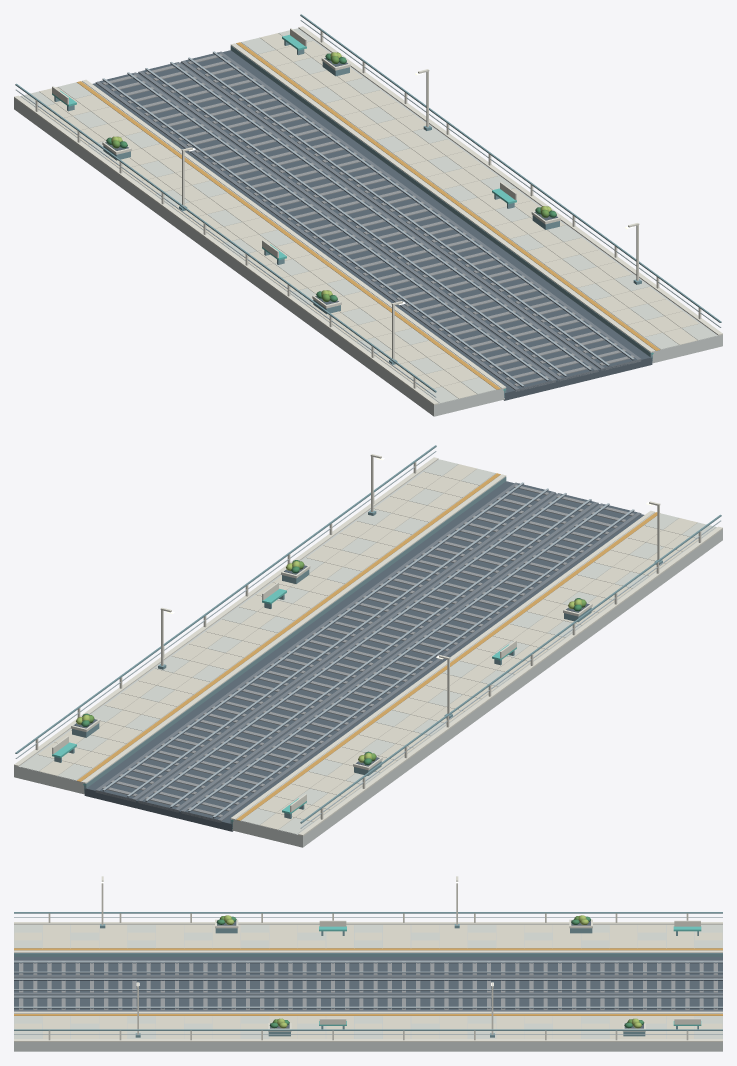
The model's file is track.glb.
3 renders of one model, top to bottom at view 1: azimuth 30°, elevation 25°; view 2: azimuth 150°, elevation 25°; view 3: azimuth 270°, elevation 25°, orthographic. The views are drawn at different scales.
Visible parts, largest first — view 1: track_Bed, track_TileA, track_Sleeper, track_White, track_TileB, track_Ballast, track_Concrete, track_RailFace, track_BlueStone, track_Tactile, track_RailWeb; view 2: track_Bed, track_TileA, track_Sleeper, track_White, track_TileB, track_Ballast, track_Concrete, track_RailFace, track_BlueStone, track_Tactile, track_RailWeb; view 3: track_TileA, track_Bed, track_White, track_RailFace, track_TileB, track_Sleeper, track_Ballast, track_Concrete, track_BlueStone, track_RailWeb, track_Tactile, track_Aqua (+1 smaller).
Part boxes in pixels (x1,y1,x2,y2): track_Bed: (92, 50, 652, 400); track_TileA: (38, 33, 699, 398); track_Sleeper: (102, 54, 634, 386); track_White: (14, 26, 722, 404); track_TileB: (21, 28, 715, 403); track_Ballast: (95, 51, 641, 391); track_Concrete: (14, 28, 722, 416); track_RailFace: (16, 20, 721, 397); track_BlueStone: (15, 14, 721, 397); track_Tactile: (77, 42, 659, 389); track_RailWeb: (102, 53, 634, 387); track_Bed: (73, 481, 644, 831); track_TileA: (37, 464, 698, 829); track_Sleeper: (102, 485, 634, 817); track_White: (14, 454, 722, 835); track_TileB: (21, 459, 715, 834); track_Ballast: (95, 482, 641, 822); track_Concrete: (14, 459, 722, 847); track_RailFace: (15, 451, 720, 828); track_BlueStone: (15, 445, 721, 828); track_Tactile: (77, 473, 657, 820); track_RailWeb: (102, 484, 634, 818); track_TileA: (14, 925, 722, 1038); track_Bed: (14, 920, 722, 1028); track_White: (14, 876, 722, 1041); track_RailFace: (14, 917, 722, 1034); track_TileB: (14, 925, 722, 1038); track_Sleeper: (19, 961, 717, 1010); track_Ballast: (14, 960, 722, 1011); track_Concrete: (14, 924, 722, 1051); track_BlueStone: (14, 912, 722, 1037); track_RailWeb: (14, 962, 722, 1008); track_Tactile: (14, 948, 722, 1015); track_Aqua: (319, 926, 701, 1025).
Bounding box in the file's own units: 15.89 × 3.85 × 40.
